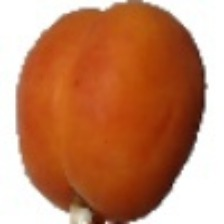apricot: (20, 33, 181, 202)
